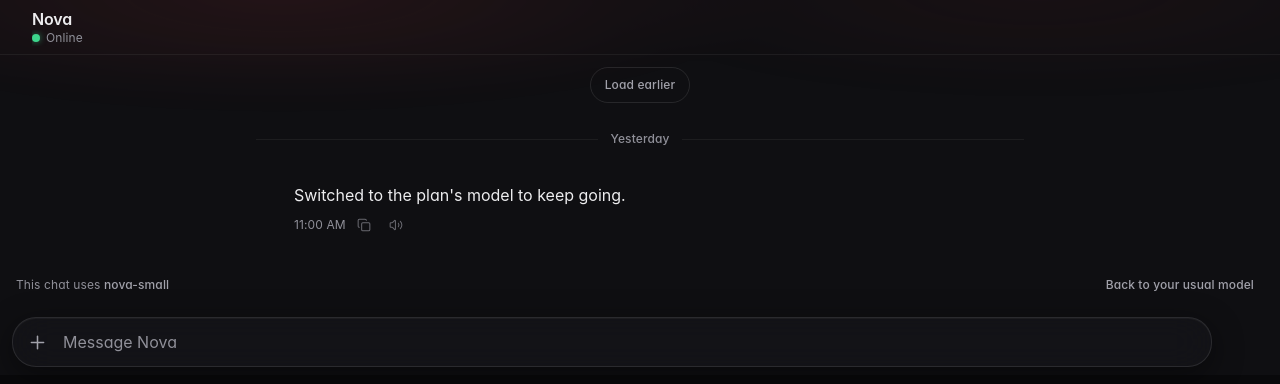
Test: a chat switched to another model says which, and goes back to the usual one
This screenshot has width=1280, height=384.
Expected: the text "nova-small" is shown, [104,277,169,292]
Click the button "Back to your usual model" at (1180, 285), box [1096,263,1264,307]
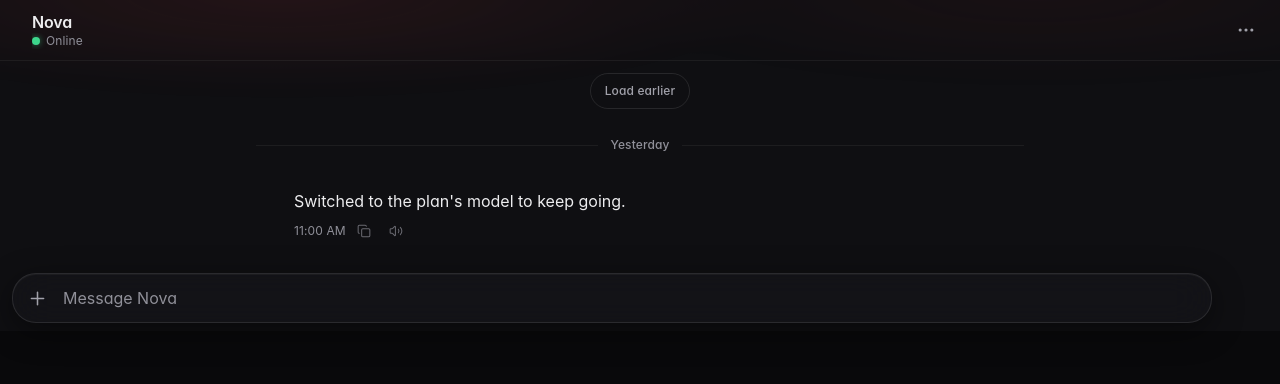
Expected: the text "nova-small" is gone
